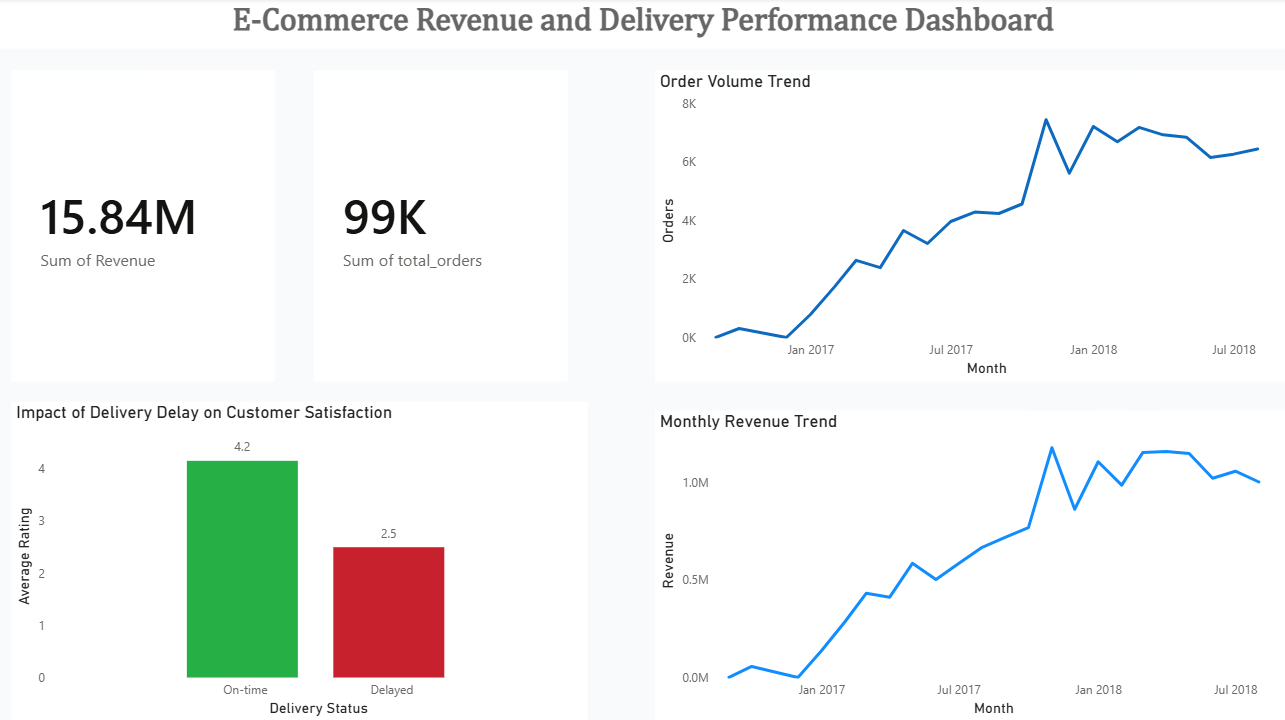

This screenshot's page, from the dashboard's own definition file:
{"tool":"powerbi","page":{"name":"Revenue & Delivery Overview ","canvas":[1280,720],"ordinal":0},"visuals":[{"type":"textbox","box":[0,0,1280.3,50.8],"z":0},{"type":"lineChart","title":"Monthly Revenue Trend","fields":{"Category":["revenue_data.order_month"],"Y":["Sum(revenue_data.Revenue)"]},"box":[651.8,410.5,628.2,309.7],"z":1000},{"type":"lineChart","title":"Order Volume Trend","fields":{"Y":["Sum(revenue_data.total_orders)"],"Category":["revenue_data.order_month"]},"box":[651.8,72.1,627,309.7],"z":2000},{"type":"clusteredColumnChart","title":"Impact of Delivery Delay on Customer Satisfaction","fields":{"Category":["delivery_status.delivery_status"],"Y":["Sum(delivery_status.avg_review_score)"]},"box":[11.2,401.8,573.5,318.5],"z":3000},{"type":"cardVisual","fields":{"Data":["Sum(revenue_data.Revenue)"]},"box":[11.2,72.1,262.5,309.7],"z":4000},{"type":"cardVisual","fields":{"Data":["Sum(revenue_data.total_orders)"]},"box":[312.2,72.1,252.5,309.7],"z":5000}]}

Visuals, with their boxes in screenshot pixels (x1, y1, x2, y2), scaled from the page's 1280x720 canvas onto the 1285x720 screenshot:
textbox: 0,0,1284,51
"Monthly Revenue Trend" lineChart: 654,410,1284,719
"Order Volume Trend" lineChart: 654,72,1284,382
"Impact of Delivery Delay on Customer Satisfaction" clusteredColumnChart: 11,402,587,719
cardVisual - Sum(revenue_data.Revenue): 11,72,275,382
cardVisual - Sum(revenue_data.total_orders): 313,72,567,382
